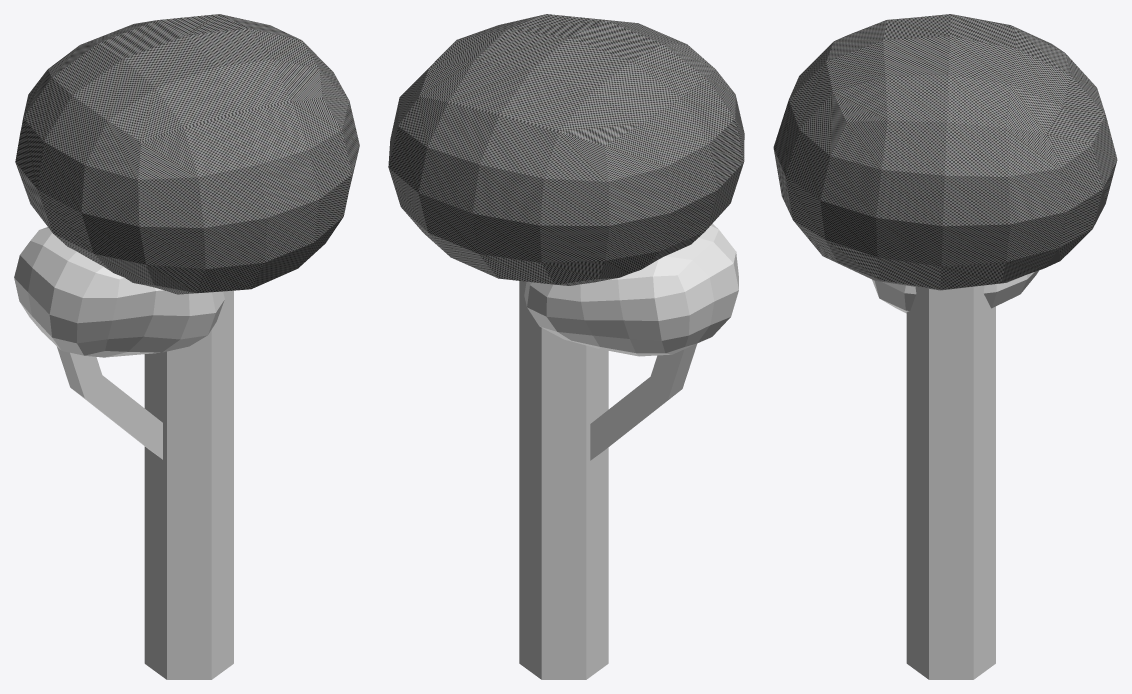
The model's file is TestTree.glb.
The picture shows the model from 3 angles, left to right: view 1: azimuth 30°, elevation 25°; view 2: azimuth 150°, elevation 25°; view 3: azimuth 270°, elevation 25°; orthographic projection.
Parts seen in each view (by area): view 1: Cube, Cylinder, Cube.001, Cube.002; view 2: Cube, Cylinder, Cube.001, Cube.002; view 3: Cube, Cylinder, Cube.001.
Boxes of the visible parts, box(x1,y1,x2,y2) form: Cube: box(15, 14, 359, 294); Cylinder: box(144, 290, 233, 679); Cube.001: box(14, 227, 224, 357); Cube.002: box(57, 347, 162, 459); Cube: box(388, 14, 744, 285); Cylinder: box(519, 281, 608, 679); Cube.001: box(524, 223, 738, 356); Cube.002: box(590, 343, 696, 460); Cube: box(773, 14, 1117, 290); Cylinder: box(906, 285, 995, 679); Cube.001: box(872, 270, 1038, 313).
Bounding box in the file's own units: 1.99 × 3.89 × 1.94.
1 material, 1 textured.
